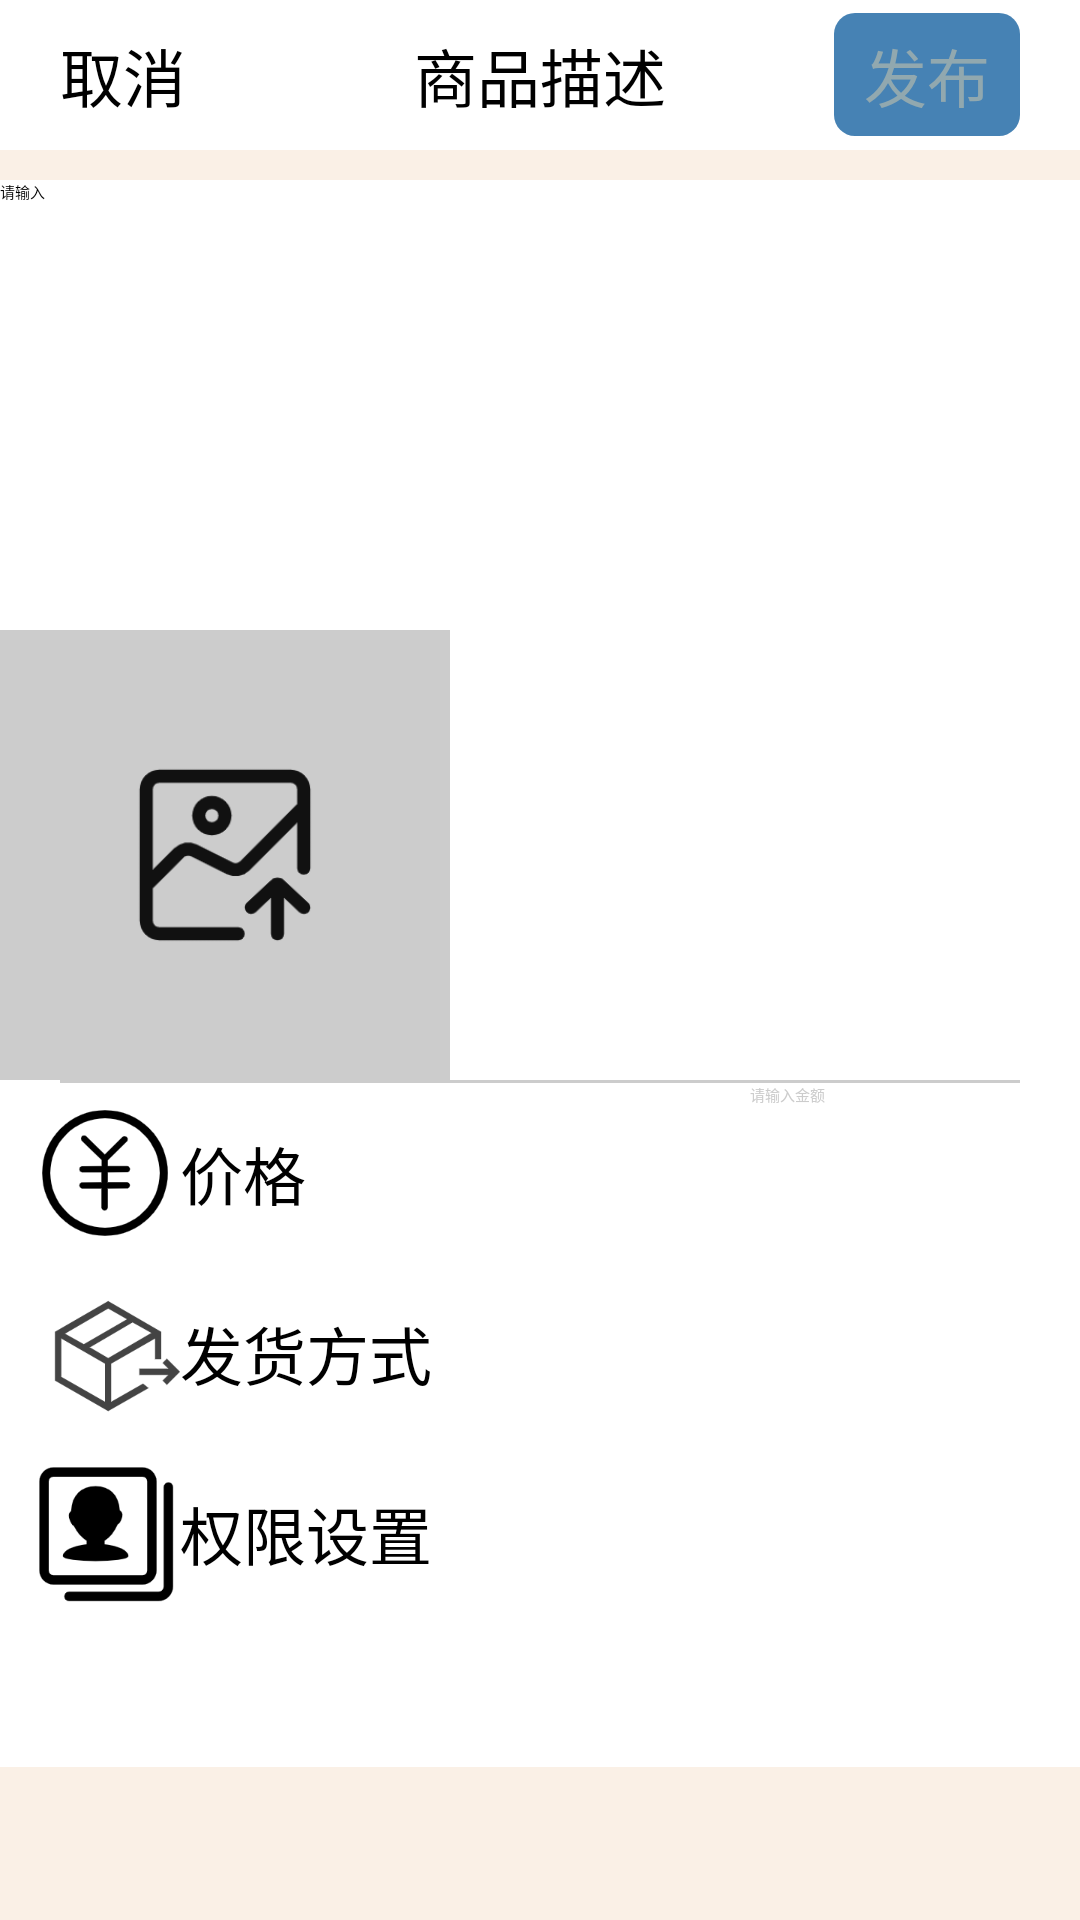

Where icons sit on this 1080 × 1920 app screen, as [x1, y1, x2, y2]:
upload pictures: [139, 769, 311, 941]
